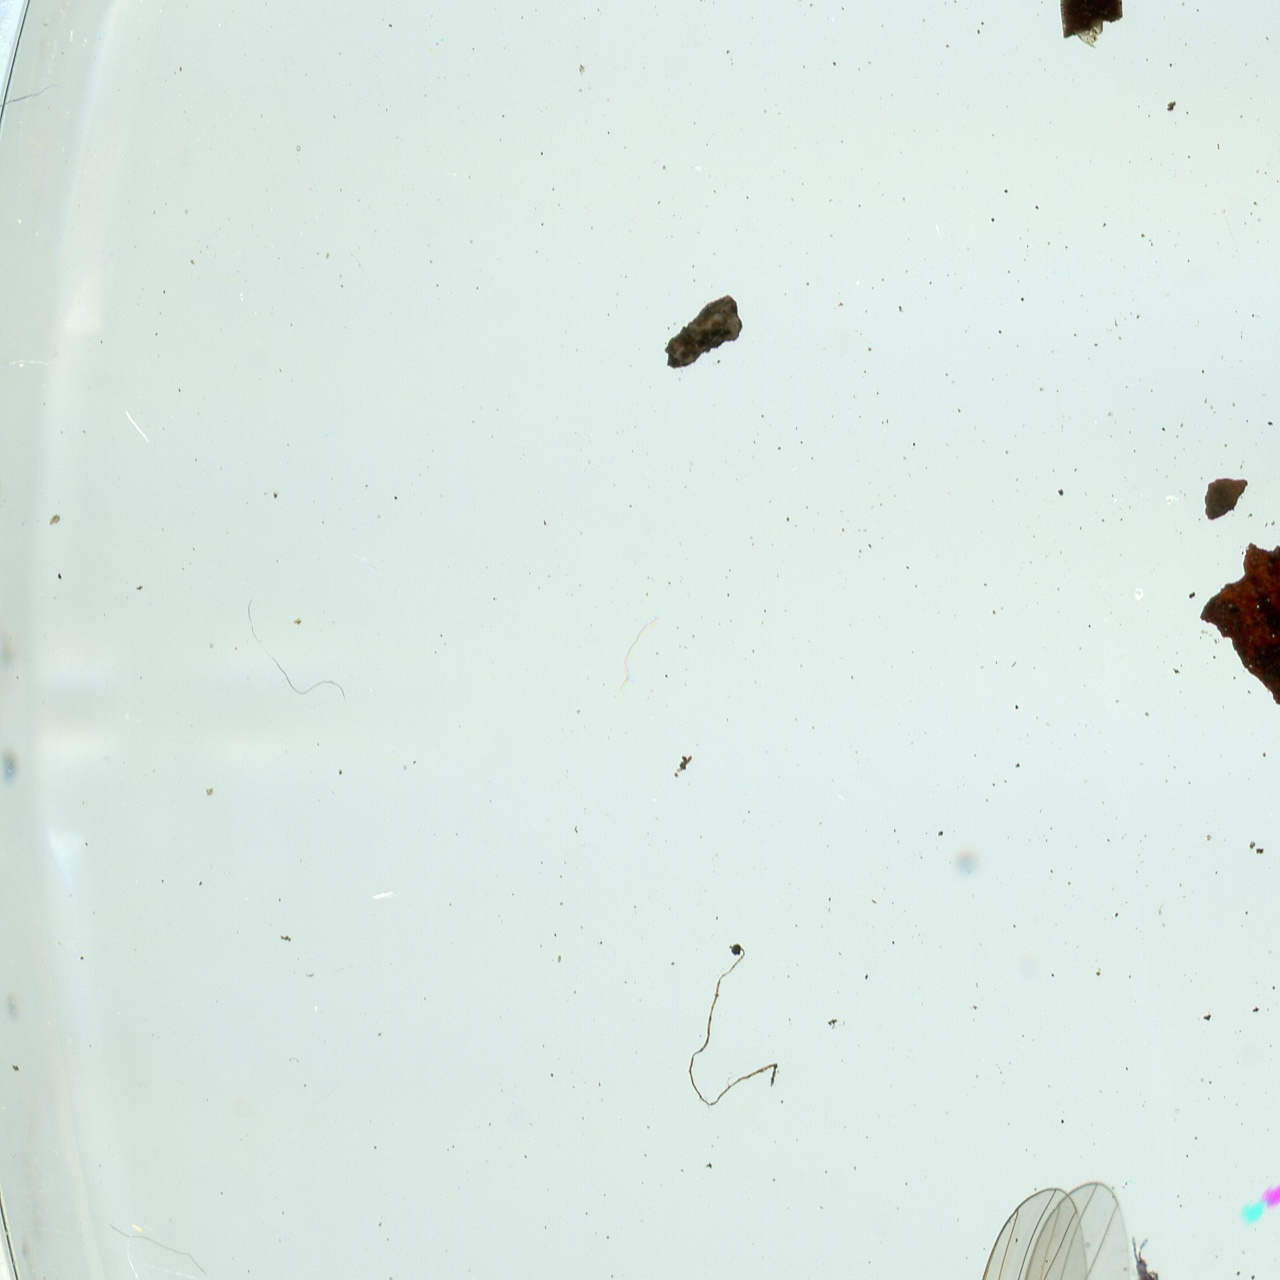arthropod: (869, 1176, 1165, 1280), (1121, 1227, 1176, 1280)
